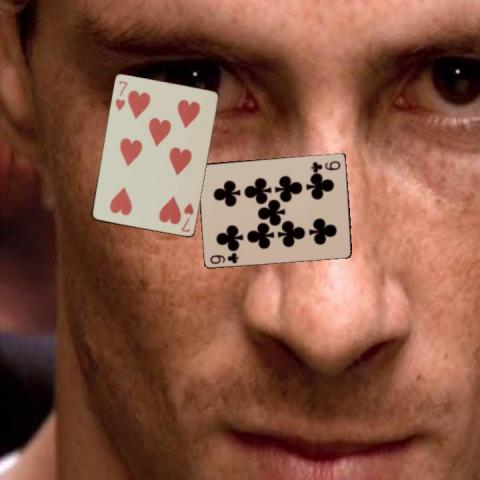7h: (112, 77, 129, 112), (178, 200, 195, 234)
9c: (207, 250, 240, 266), (308, 158, 342, 172)
